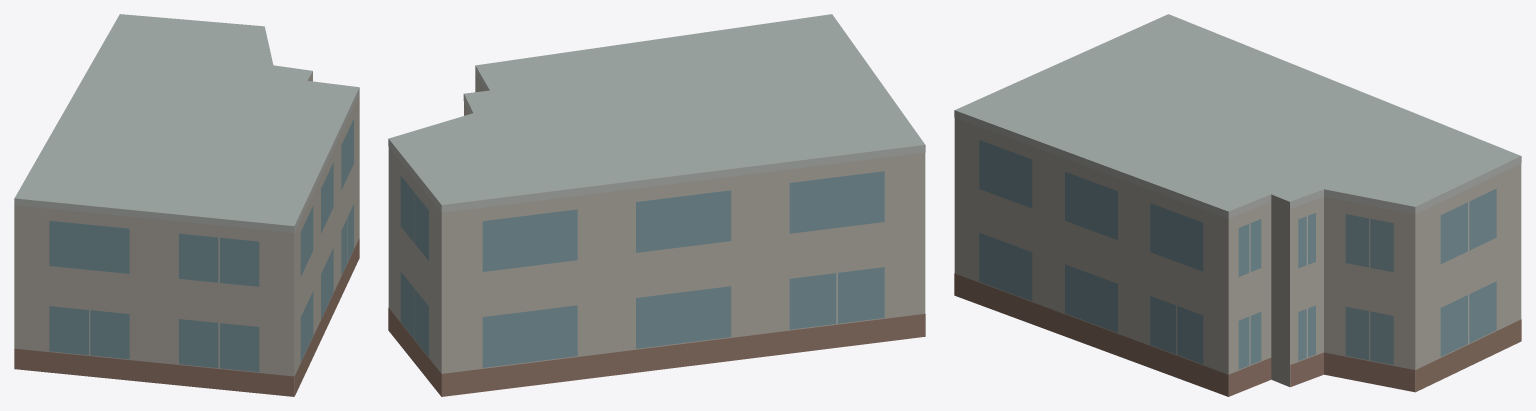
File: survey-upis-32625708.glb
The picture shows the model from 3 angles, left to right: view 1: azimuth 30°, elevation 25°; view 2: azimuth 150°, elevation 25°; view 3: azimuth 270°, elevation 25°; orthographic projection. The views are drawn at different scales.
Parts seen in each view (by area): view 1: survey-upis-32625708.tmp; view 2: survey-upis-32625708.tmp; view 3: survey-upis-32625708.tmp.
Boxes of the visible parts, x1=… form: survey-upis-32625708.tmp: x1=14, y1=14, x2=359, y2=396; survey-upis-32625708.tmp: x1=388, y1=14, x2=925, y2=396; survey-upis-32625708.tmp: x1=954, y1=14, x2=1521, y2=396.
Size of the model in its own units: 13.95 by 6.1 by 16.92.
